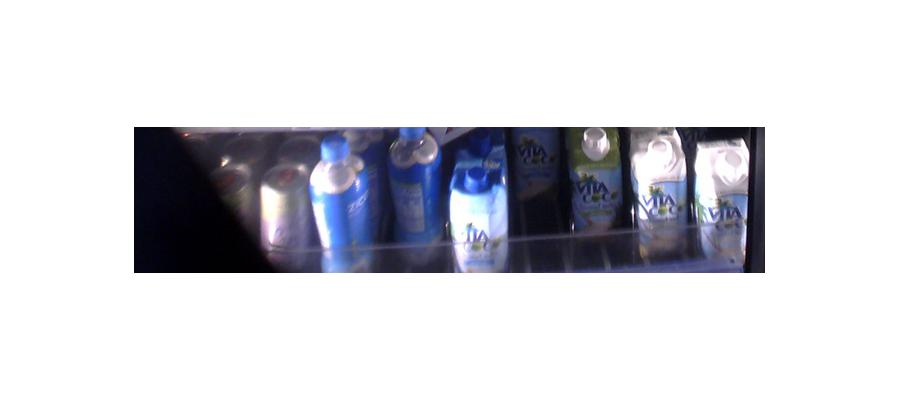bottle: (310, 134, 382, 274), (448, 133, 510, 273), (388, 125, 446, 265), (638, 130, 693, 263), (577, 123, 630, 259), (701, 133, 752, 264), (260, 154, 315, 269)
